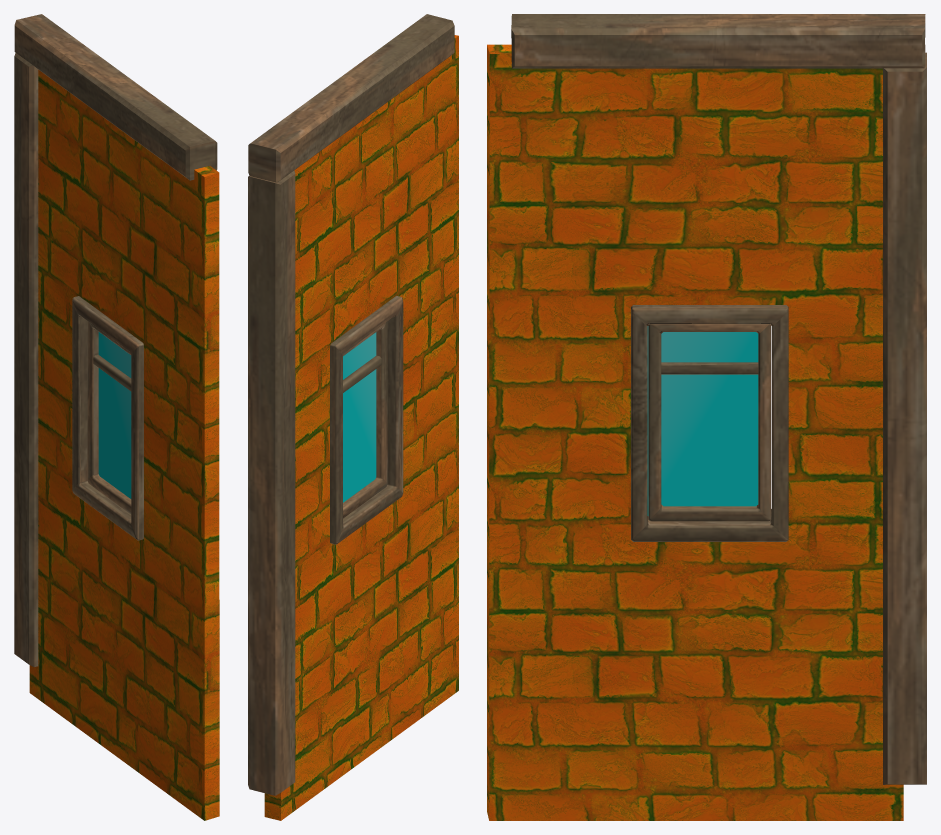
Rendered from SM_wall_10.fbx.
The picture shows the model from 3 angles, left to right: view 1: azimuth 30°, elevation 25°; view 2: azimuth 150°, elevation 25°; view 3: azimuth 270°, elevation 25°; orthographic projection. The views are drawn at different scales.
Visible parts, largest first — view 1: SM_wall_10_LOD0; view 2: SM_wall_10_LOD0; view 3: SM_wall_10_LOD0.
Part boxes in pixels (box(x1,y1,x2,y2)): SM_wall_10_LOD0: box(14, 14, 219, 820); SM_wall_10_LOD0: box(248, 14, 458, 820); SM_wall_10_LOD0: box(487, 14, 926, 820).
Bounding box in the file's own units: 20 × 201 × 400.
